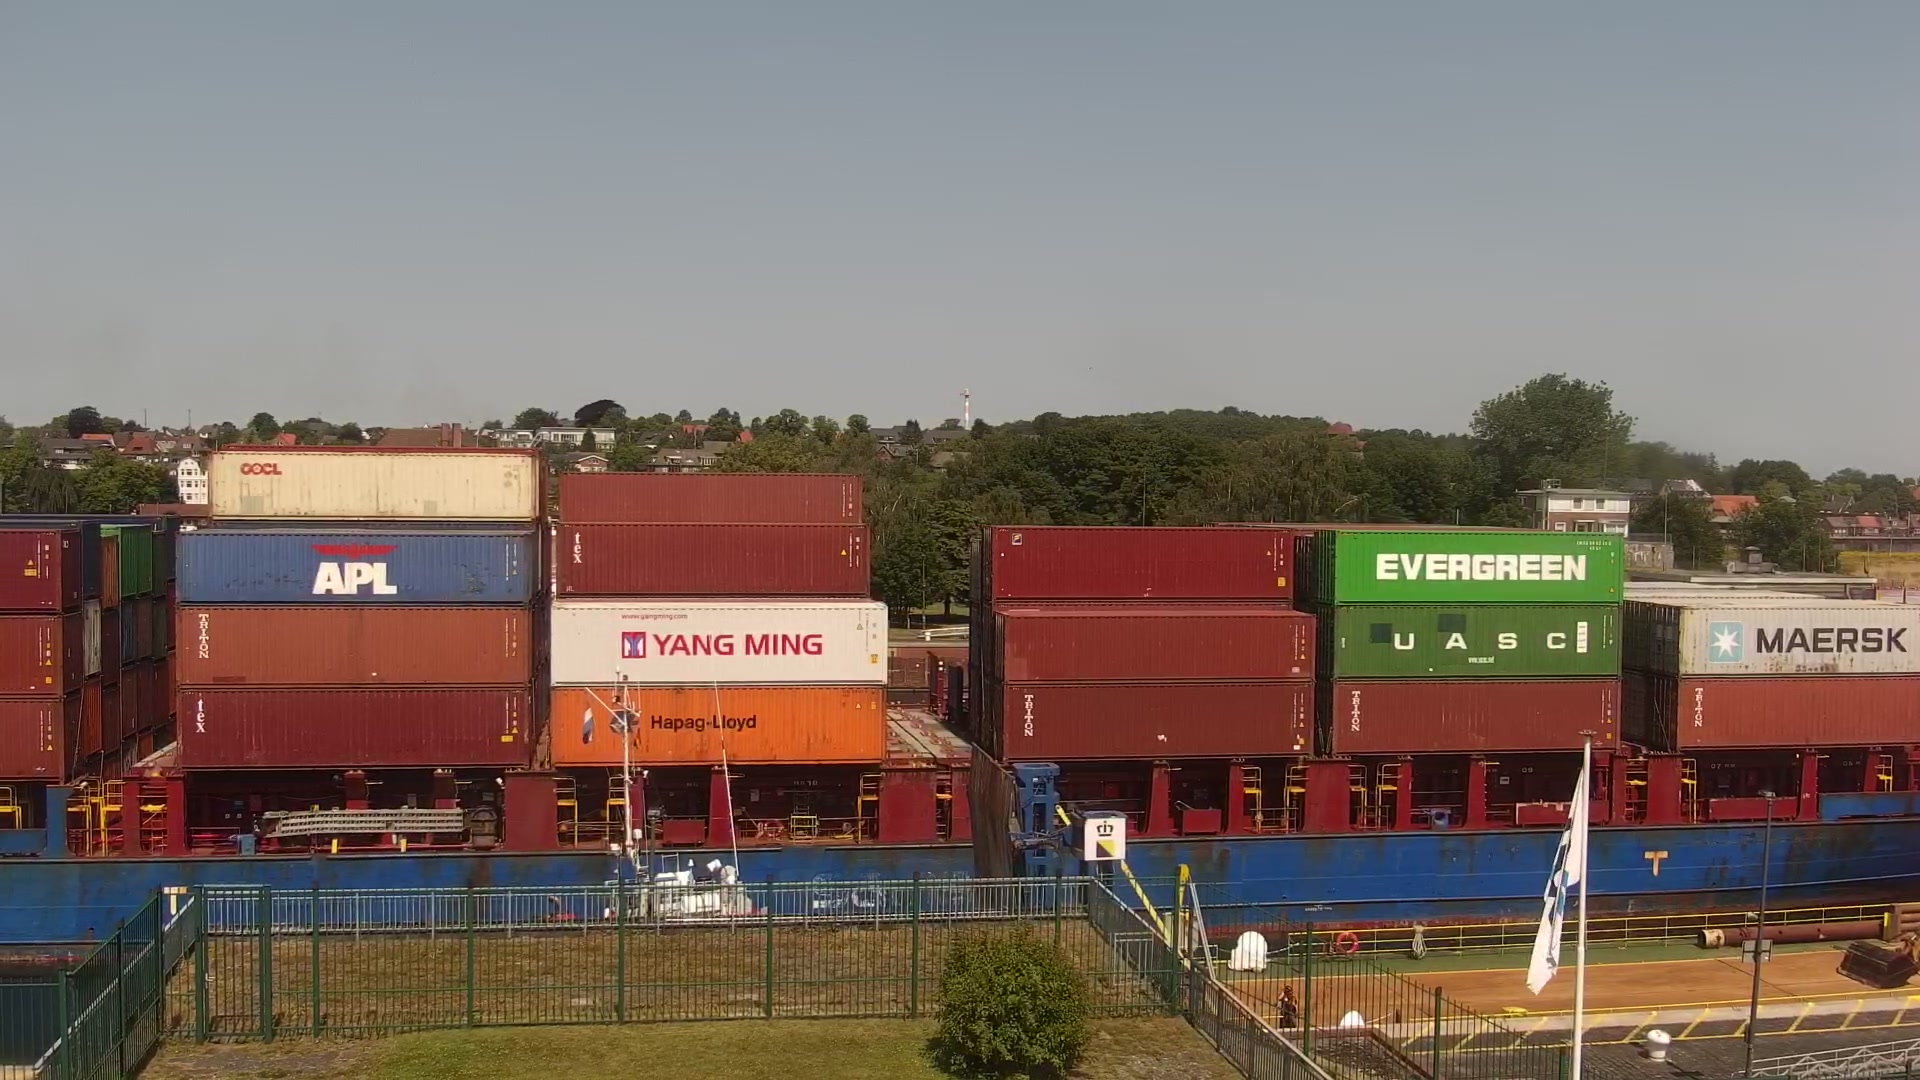human: (1275, 982, 1297, 1029)
sea: (1, 442, 1919, 939)
